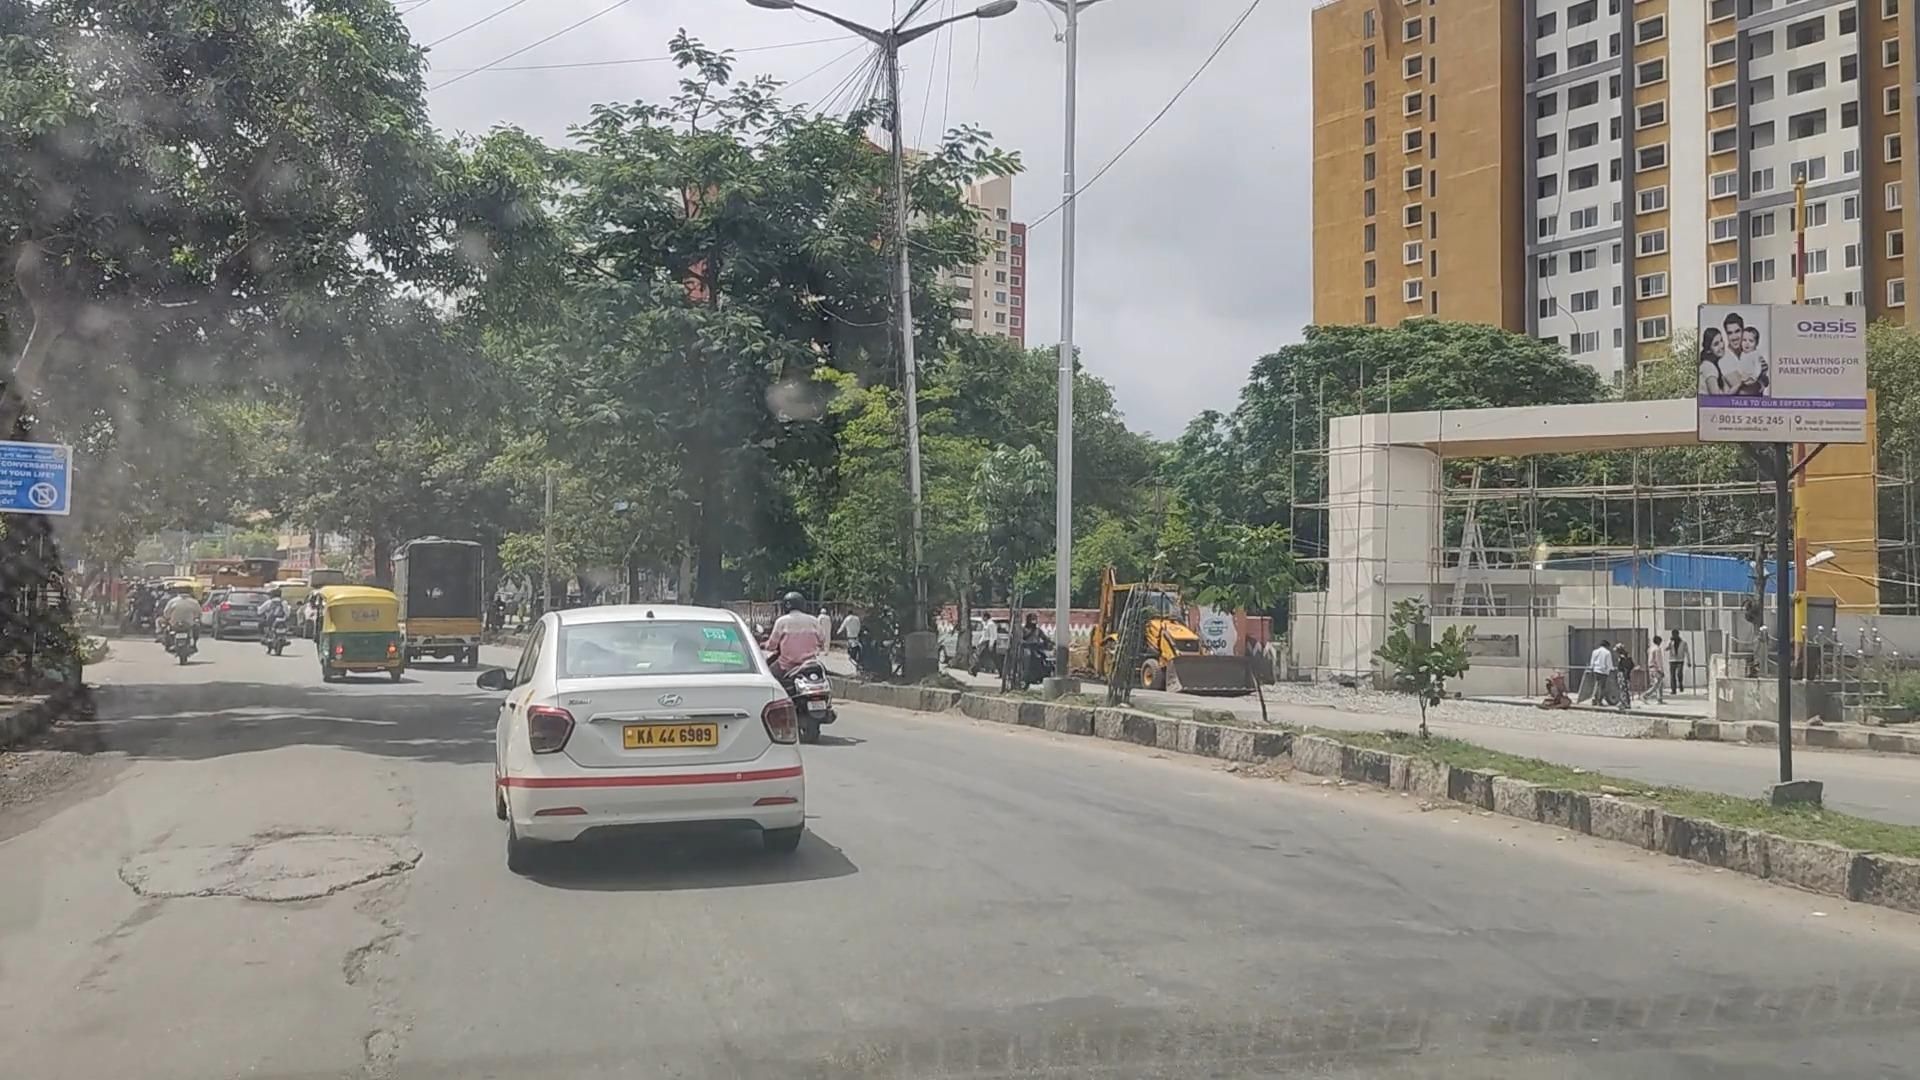LMV: (506, 599, 843, 864), (757, 583, 843, 716)
RoadDamages: (128, 778, 433, 909), (356, 898, 422, 1080)
